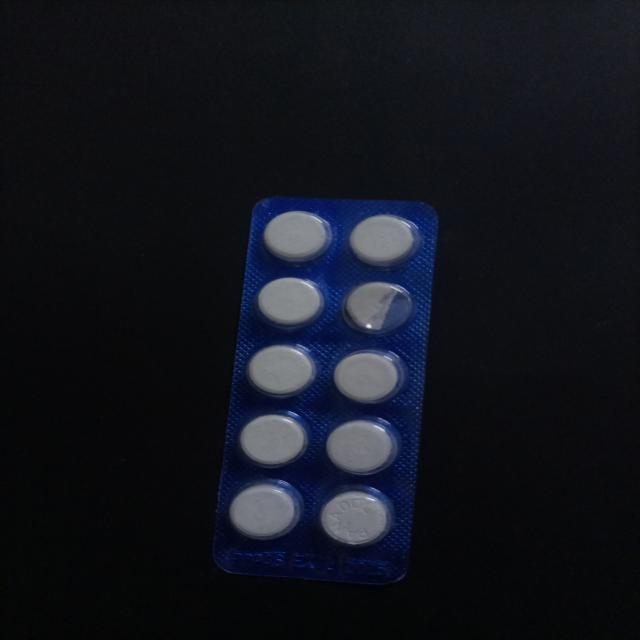defect: (340, 278, 418, 338)
